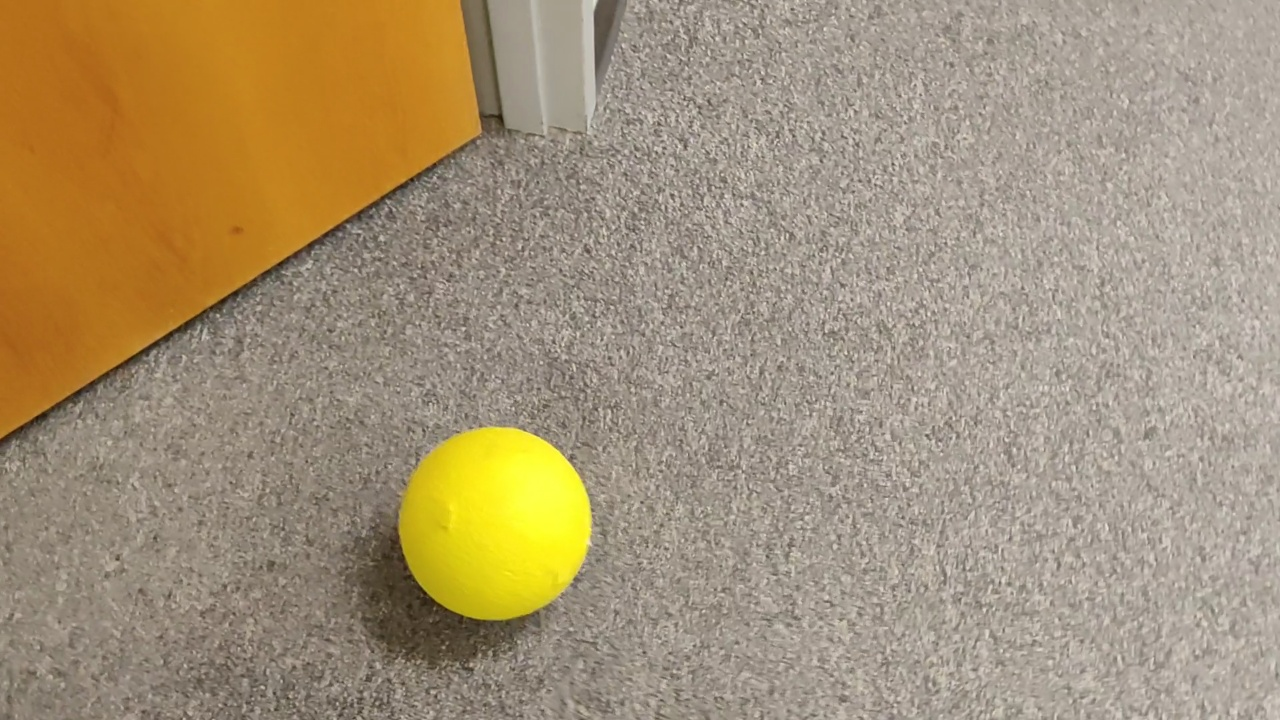Ball: (396, 436, 612, 627)
